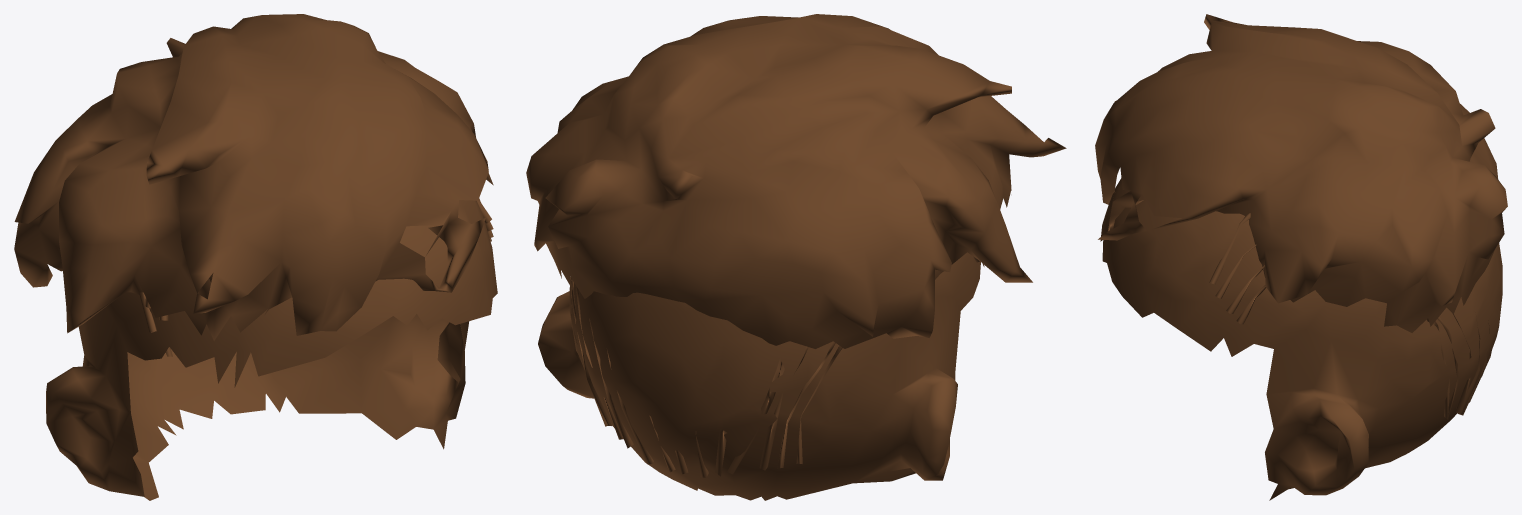
File: short-fringe.glb
3 views of the same model, side by side, from view 1: azimuth 30°, elevation 25°; view 2: azimuth 150°, elevation 25°; view 3: azimuth 270°, elevation 25° (orthographic). The views are drawn at different scales.
Visible parts, largest first — view 1: Hair, HairScalp, HairPulledRootStrands; view 2: Hair, HairScalp, HairPulledRootStrands; view 3: Hair, HairScalp, HairPulledRootStrands.
Part boxes in pixels (<box>): Hair: <box>14,14,493,340</box>; HairScalp: <box>46,200,497,500</box>; HairPulledRootStrands: <box>139,198,493,356</box>; Hair: <box>526,14,1066,348</box>; HairScalp: <box>538,252,984,500</box>; HairPulledRootStrands: <box>570,256,979,477</box>; Hair: <box>1095,14,1507,332</box>; HairScalp: <box>1100,178,1502,500</box>; HairPulledRootStrands: <box>1209,213,1491,419</box>.
Size of the model in its own units: 0.5078 by 0.453 by 0.4507.
